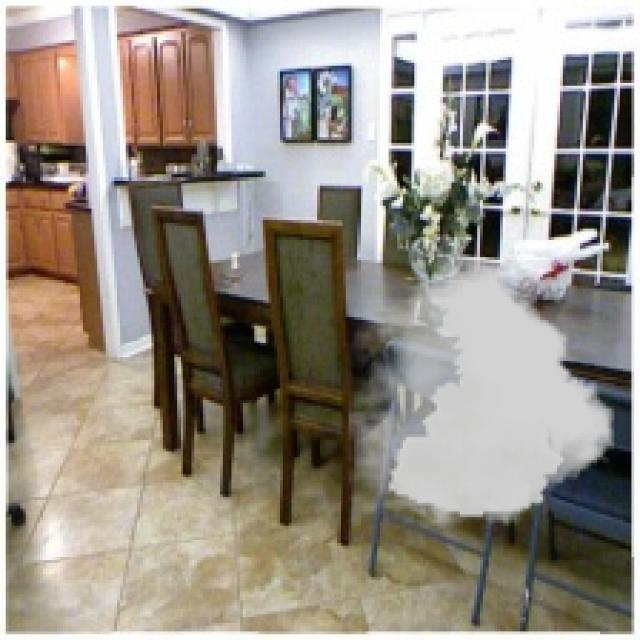Smoke: (348, 257, 614, 529)
